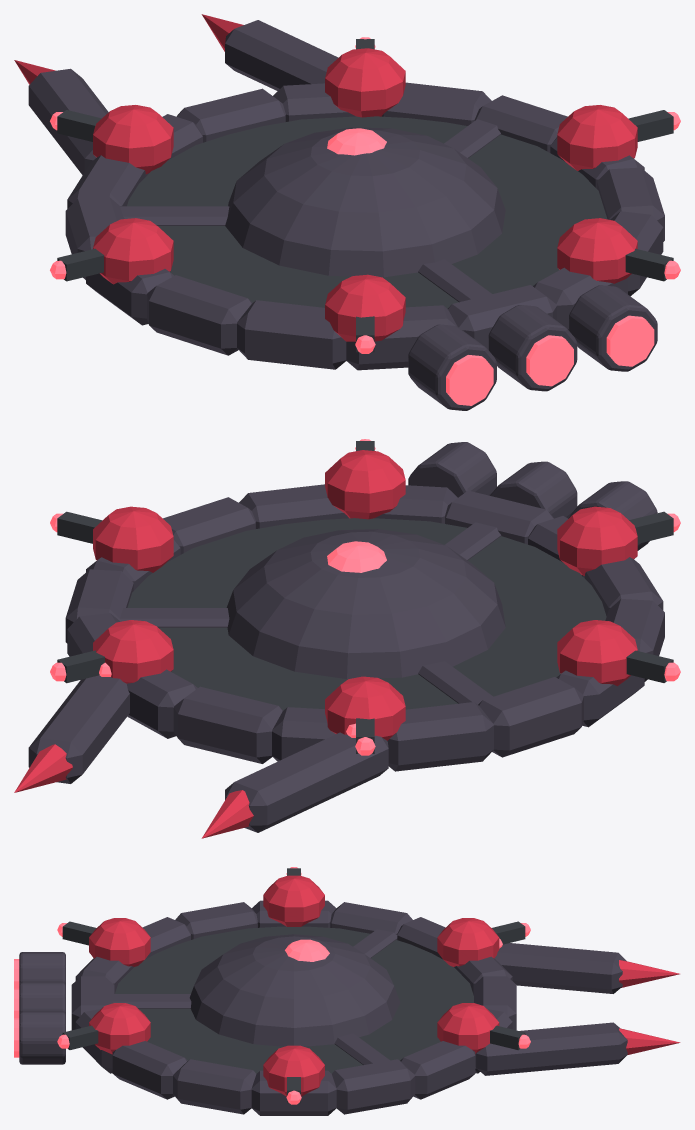
The model's file is boss_dreadnought.glb.
3 renders of one model, top to bottom at view 1: azimuth 30°, elevation 25°; view 2: azimuth 150°, elevation 25°; view 3: azimuth 270°, elevation 25°, orthographic. The views are drawn at different scales.
Visible parts, largest first — view 1: boss_dreadnought; view 2: boss_dreadnought; view 3: boss_dreadnought.
Part boxes in pixels (left/top/right/bottom): boss_dreadnought: left=14, top=14, right=680, bottom=410; boss_dreadnought: left=14, top=439, right=680, bottom=838; boss_dreadnought: left=14, top=867, right=680, bottom=1115.
Size of the model in its own units: 7.01 by 1.77 by 8.62.
